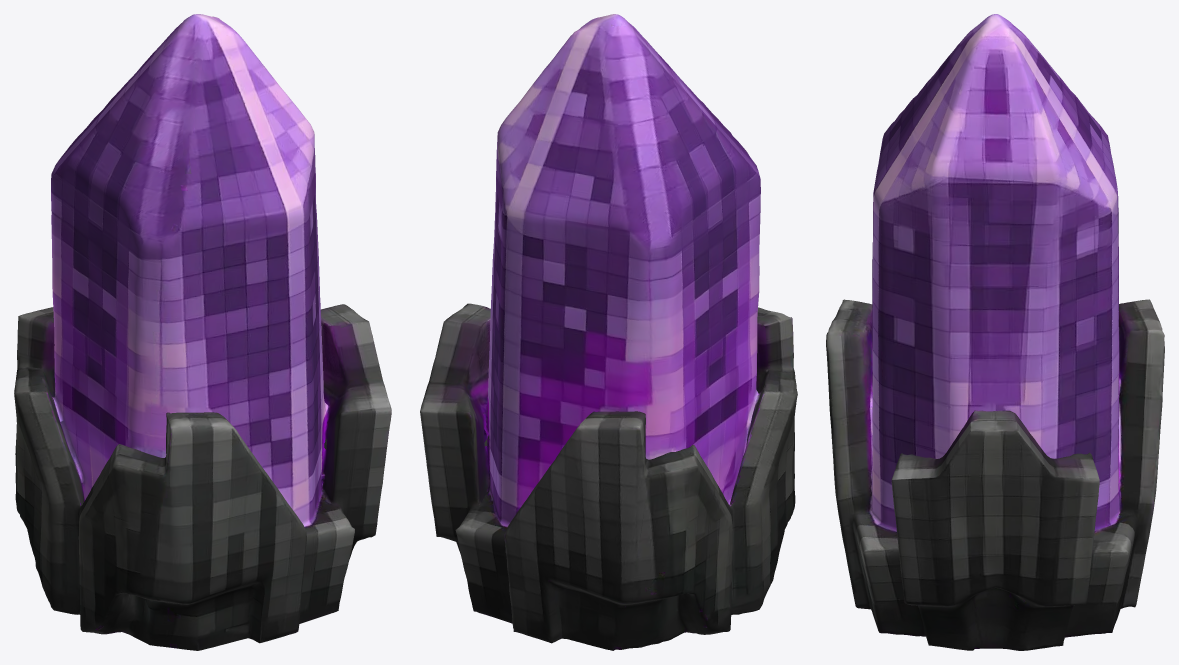
Rendered from Purple Crystal.glb.
3 renders of one model, left to right at view 1: azimuth 30°, elevation 25°; view 2: azimuth 150°, elevation 25°; view 3: azimuth 270°, elevation 25°, orthographic.
Visible parts, largest first — view 1: Mesh_0; view 2: Mesh_0; view 3: Mesh_0.
Boxes of the visible parts, left/top/right/bottom form: Mesh_0: left=14, top=14, right=391, bottom=650; Mesh_0: left=420, top=14, right=797, bottom=650; Mesh_0: left=826, top=14, right=1164, bottom=650.
Size of the model in its own units: 1.01 by 1.9 by 1.01.
Materials: 1 (1 with a texture image).
